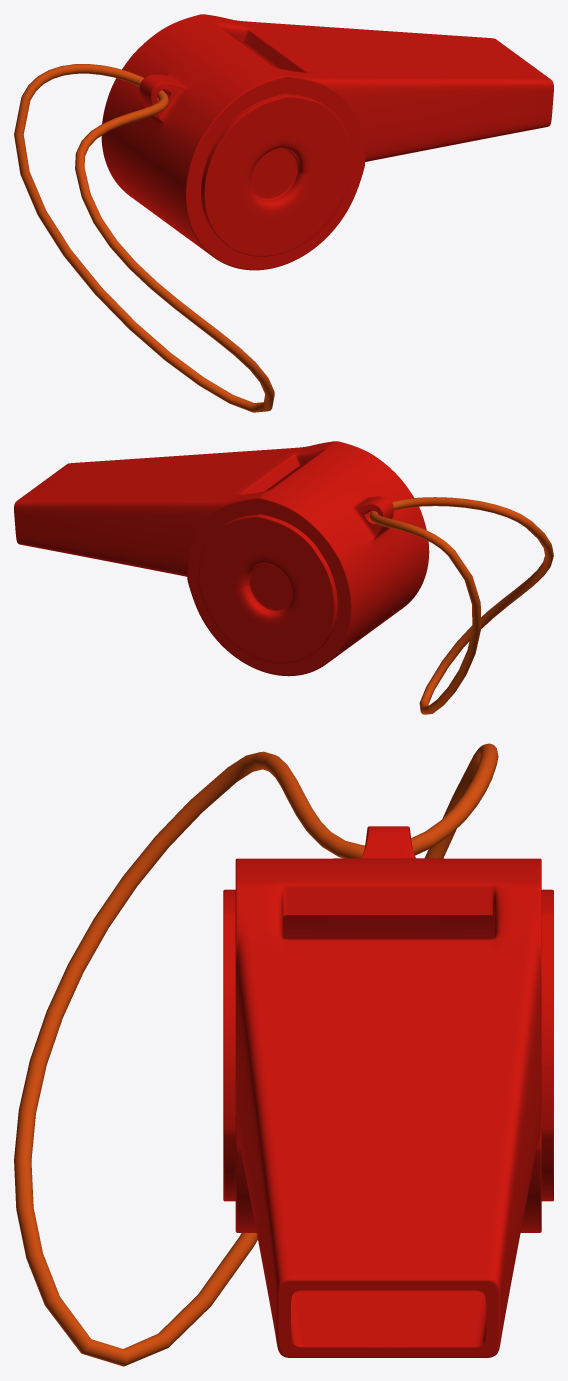
File: Duduk.obj
The picture shows the model from 3 angles, top to bottom: view 1: azimuth 30°, elevation 25°; view 2: azimuth 150°, elevation 25°; view 3: azimuth 270°, elevation 25°; orthographic projection. The views are drawn at different scales.
Visible parts, largest first — view 1: Whistle, Tape; view 2: Whistle, Tape; view 3: Whistle, Tape.
Boxes of the visible parts, x1,y1,x2,y2 form: Whistle: (101,14,553,270); Tape: (14,64,274,412); Whistle: (14,441,429,676); Tape: (369,497,553,714); Whistle: (223,826,553,1357); Tape: (14,743,498,1366).
Size of the model in its own units: 4.68 by 2.69 by 2.45.
